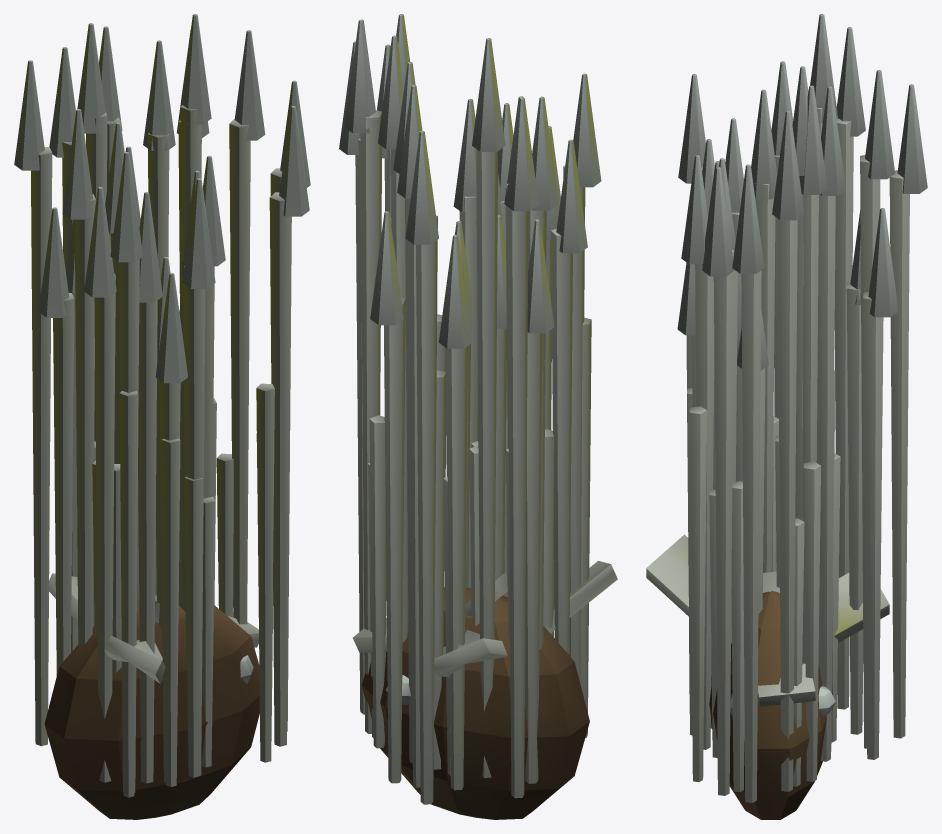
Rendered from crop_moon_rice.glb.
3 renders of one model, left to right at view 1: azimuth 30°, elevation 25°; view 2: azimuth 150°, elevation 25°; view 3: azimuth 270°, elevation 25°, orthographic. The views are drawn at different scales.
Parts seen in each view (by area): view 1: seed_mound, stem.009, stem.022, stem, stem.015, stem.013, stem.011, stem.010, stem2.010, stem2.014, stem2.011, stem2.012 (+37 smaller); view 2: seed_mound, stem.009, stem.006, stem.008, stem.004, stem.007, stem.013, stem, stem.010, stem2.001, stem.014, stem.005 (+38 smaller); view 3: stem, stem.006, stem.023, stem.022, seed_mound, stem.003, stem.004, stem.009, stem.007, stem2.014, stem.018, stem.002 (+38 smaller).
Boxes of the visible parts, x1,y1,x2,y2 form: seed_mound: (44, 605, 259, 819); stem.009: (31, 147, 52, 746); stem.022: (269, 192, 291, 746); stem: (229, 119, 250, 624); stem.015: (138, 300, 157, 783); stem.013: (94, 273, 115, 782); stem.011: (74, 194, 96, 644); stem.010: (53, 293, 74, 675); stem2.010: (119, 390, 137, 797); stem2.014: (256, 383, 274, 762); stem2.011: (162, 438, 180, 786); stem2.012: (184, 477, 202, 777); seed_mound: (362, 587, 589, 819); stem.009: (506, 183, 528, 798); stem.006: (416, 215, 437, 804); stem.008: (476, 149, 497, 777); stem.004: (384, 297, 405, 783); stem.007: (446, 346, 467, 790); stem.013: (551, 228, 572, 654); stem: (360, 110, 382, 733); stem.010: (525, 332, 542, 783); stem2.001: (369, 415, 386, 748); stem.014: (563, 165, 585, 682); stem.005: (408, 198, 420, 787); stem: (777, 219, 797, 791); stem.006: (889, 170, 909, 738); stem.023: (741, 270, 761, 802); stem.022: (714, 249, 734, 795); seed_mound: (709, 590, 833, 819); stem.003: (817, 195, 835, 761); stem.004: (863, 292, 883, 759); stem.009: (834, 118, 853, 709); stem.007: (846, 282, 863, 734); stem2.014: (689, 406, 707, 781); stem.018: (695, 264, 714, 749); stem.002: (802, 195, 818, 663).
Size of the model in its own units: 0.3407 by 1.06 by 0.3481.
